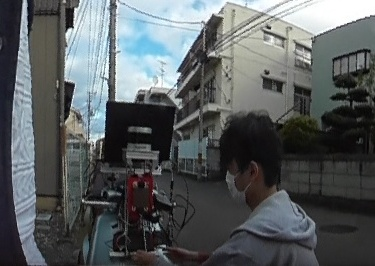person: (203, 109, 319, 266)
